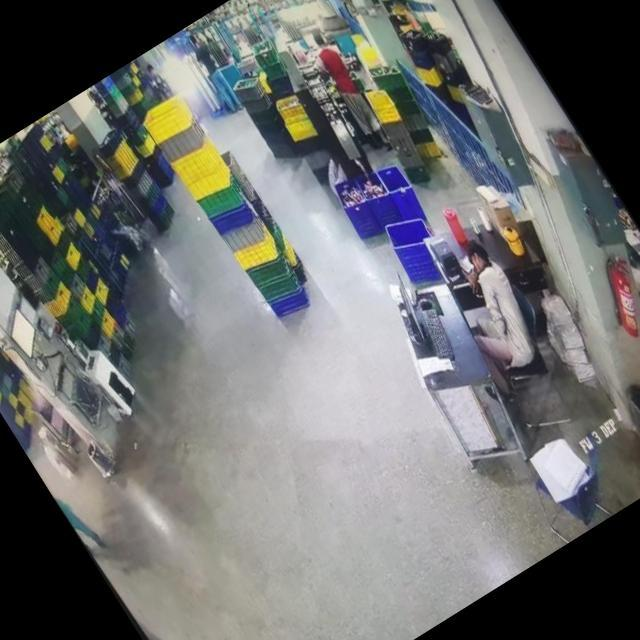person: (425, 233, 561, 394), (302, 23, 398, 158), (180, 23, 248, 116)
